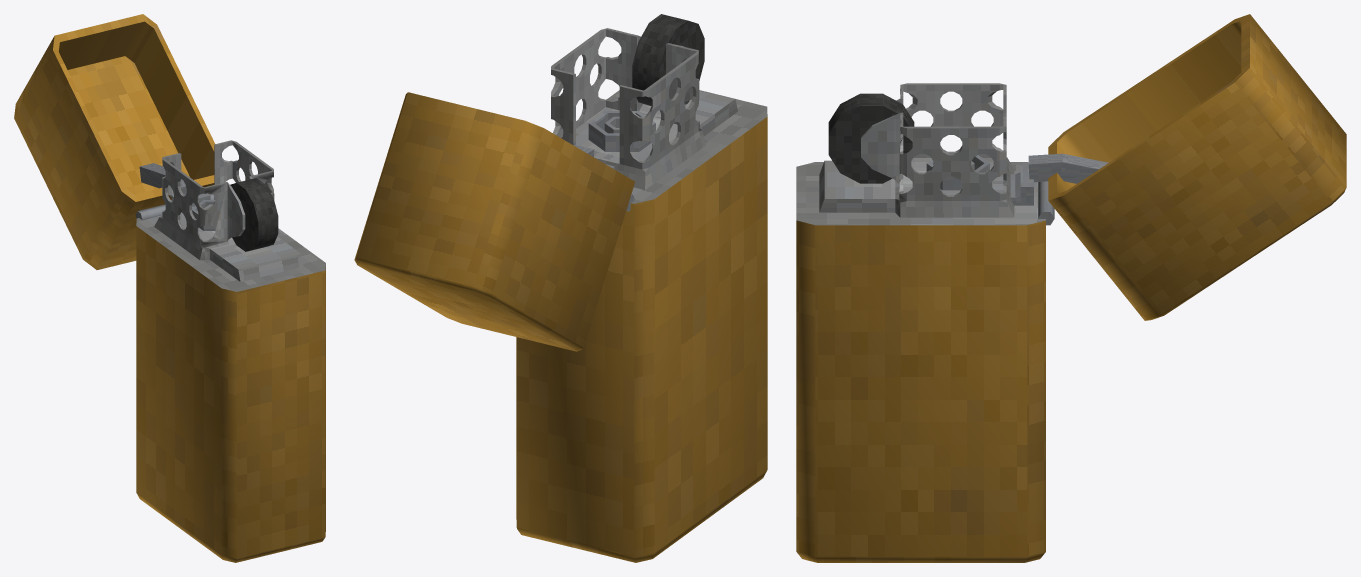
The model's file is lighter.glb.
3 renders of one model, left to right at view 1: azimuth 30°, elevation 25°; view 2: azimuth 150°, elevation 25°; view 3: azimuth 270°, elevation 25°, orthographic. The views are drawn at different scales.
Parts seen in each view (by area): view 1: lighter, lighter_cap; view 2: lighter, lighter_cap; view 3: lighter, lighter_cap.
Part boxes in pixels (x1=…): lighter: x1=135, y1=140, x2=325, y2=562; lighter_cap: x1=14, y1=14, x2=214, y2=269; lighter: x1=516, y1=14, x2=767, y2=562; lighter_cap: x1=354, y1=92, x2=634, y2=351; lighter: x1=796, y1=83, x2=1054, y2=562; lighter_cap: x1=1028, y1=14, x2=1346, y2=320.
Bounding box in the file's own units: 0.0581 × 0.2105 × 0.2133.
1 material, 1 textured.
